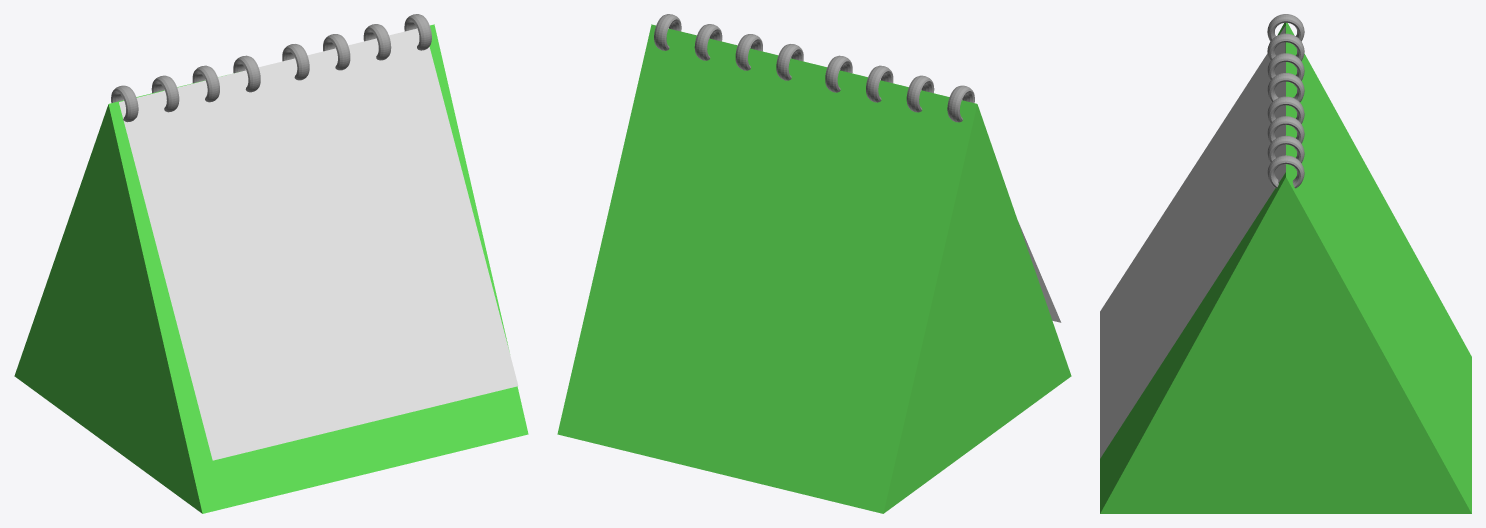
File: 캘린더.glb
3 views of the same model, side by side, from view 1: azimuth 30°, elevation 25°; view 2: azimuth 150°, elevation 25°; view 3: azimuth 270°, elevation 25° (orthographic).
Parts seen in each view (by area): view 1: Cube; view 2: Cube; view 3: Cube.
Part boxes in pixels (x1,y1,x2,y2): Cube: [14, 14, 528, 513]; Cube: [557, 14, 1071, 513]; Cube: [1100, 14, 1471, 513].
Size of the model in its own units: 2 by 2.07 by 2.
